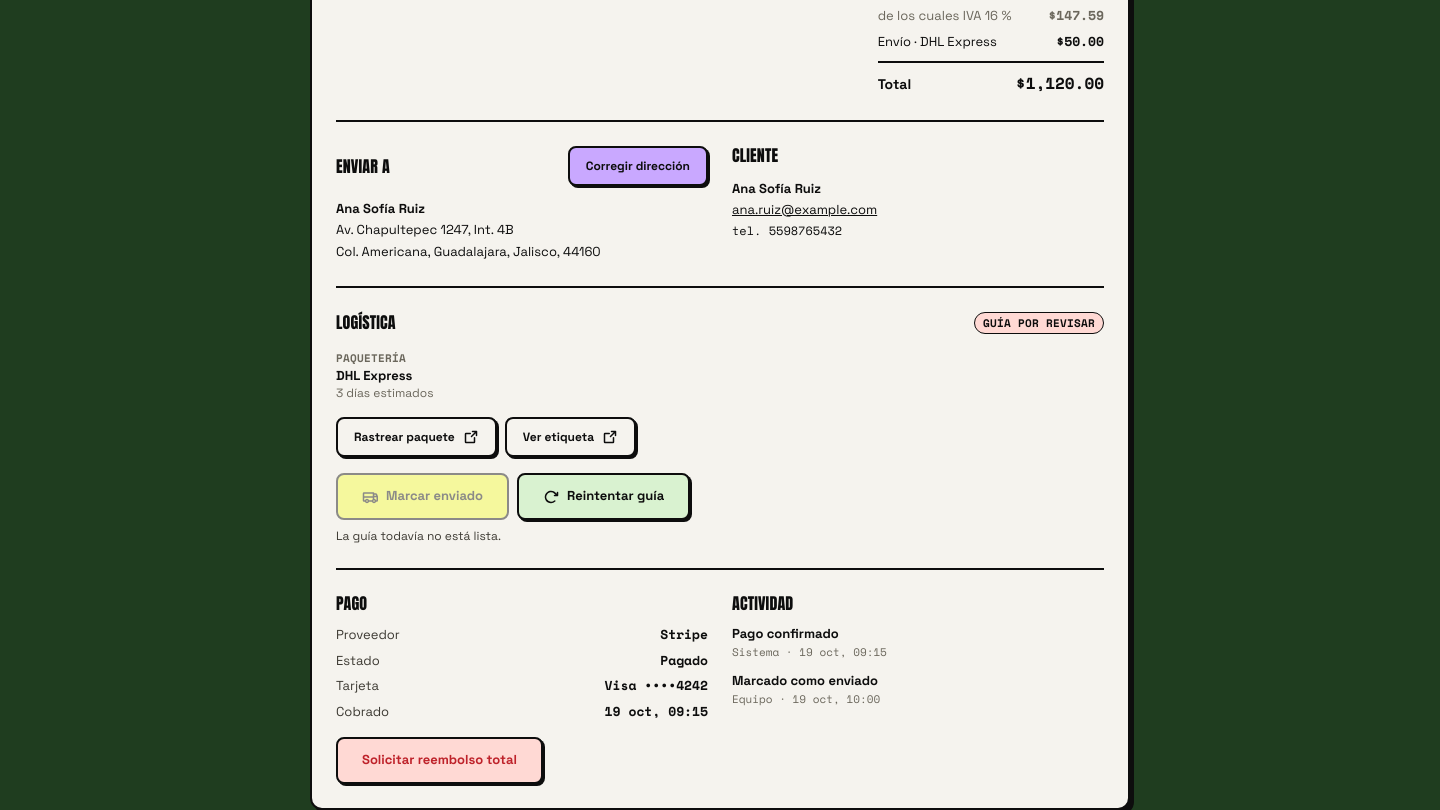
OrderDetail: acciones › reintentar guía por revisar vuelve a leer el pedido tras confirmar
The image size is (1440, 810).
(page scrolled)
Click the button "Reintentar guía": point(604, 497) 517,473 -> 690,520
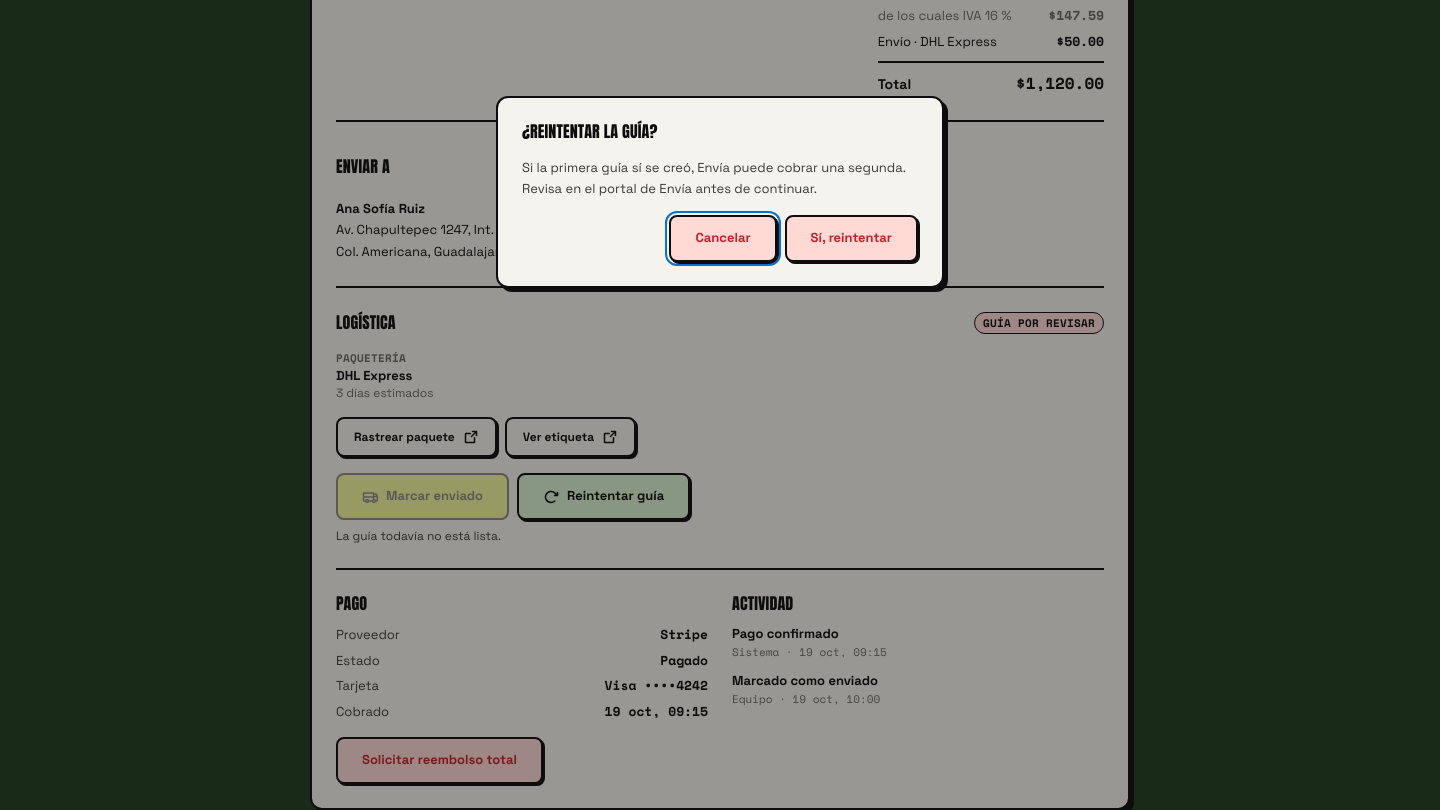
Click the button "Sí, reintentar": point(851, 239) 785,215 -> 918,262
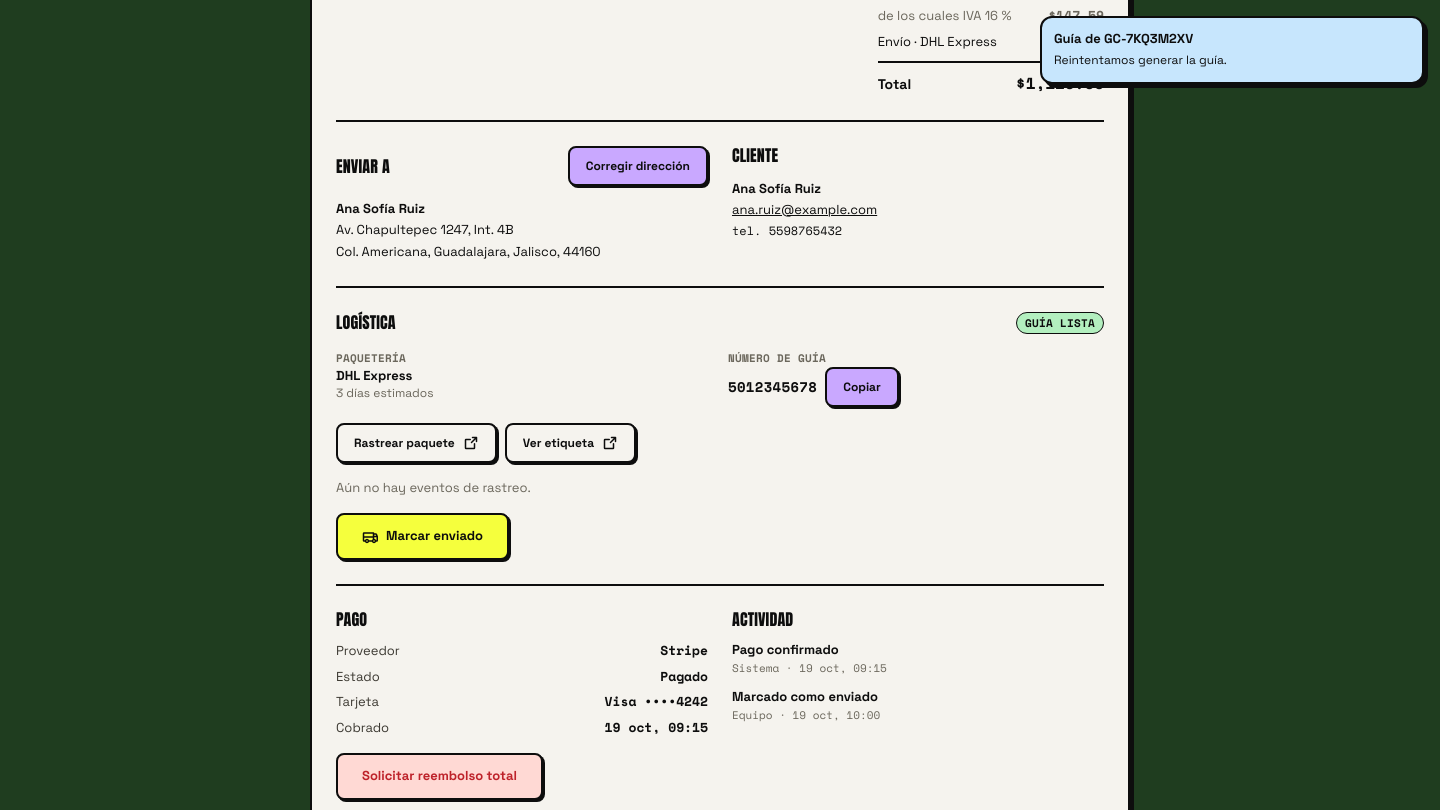
Check: the button "Reintentar guía" is gone
